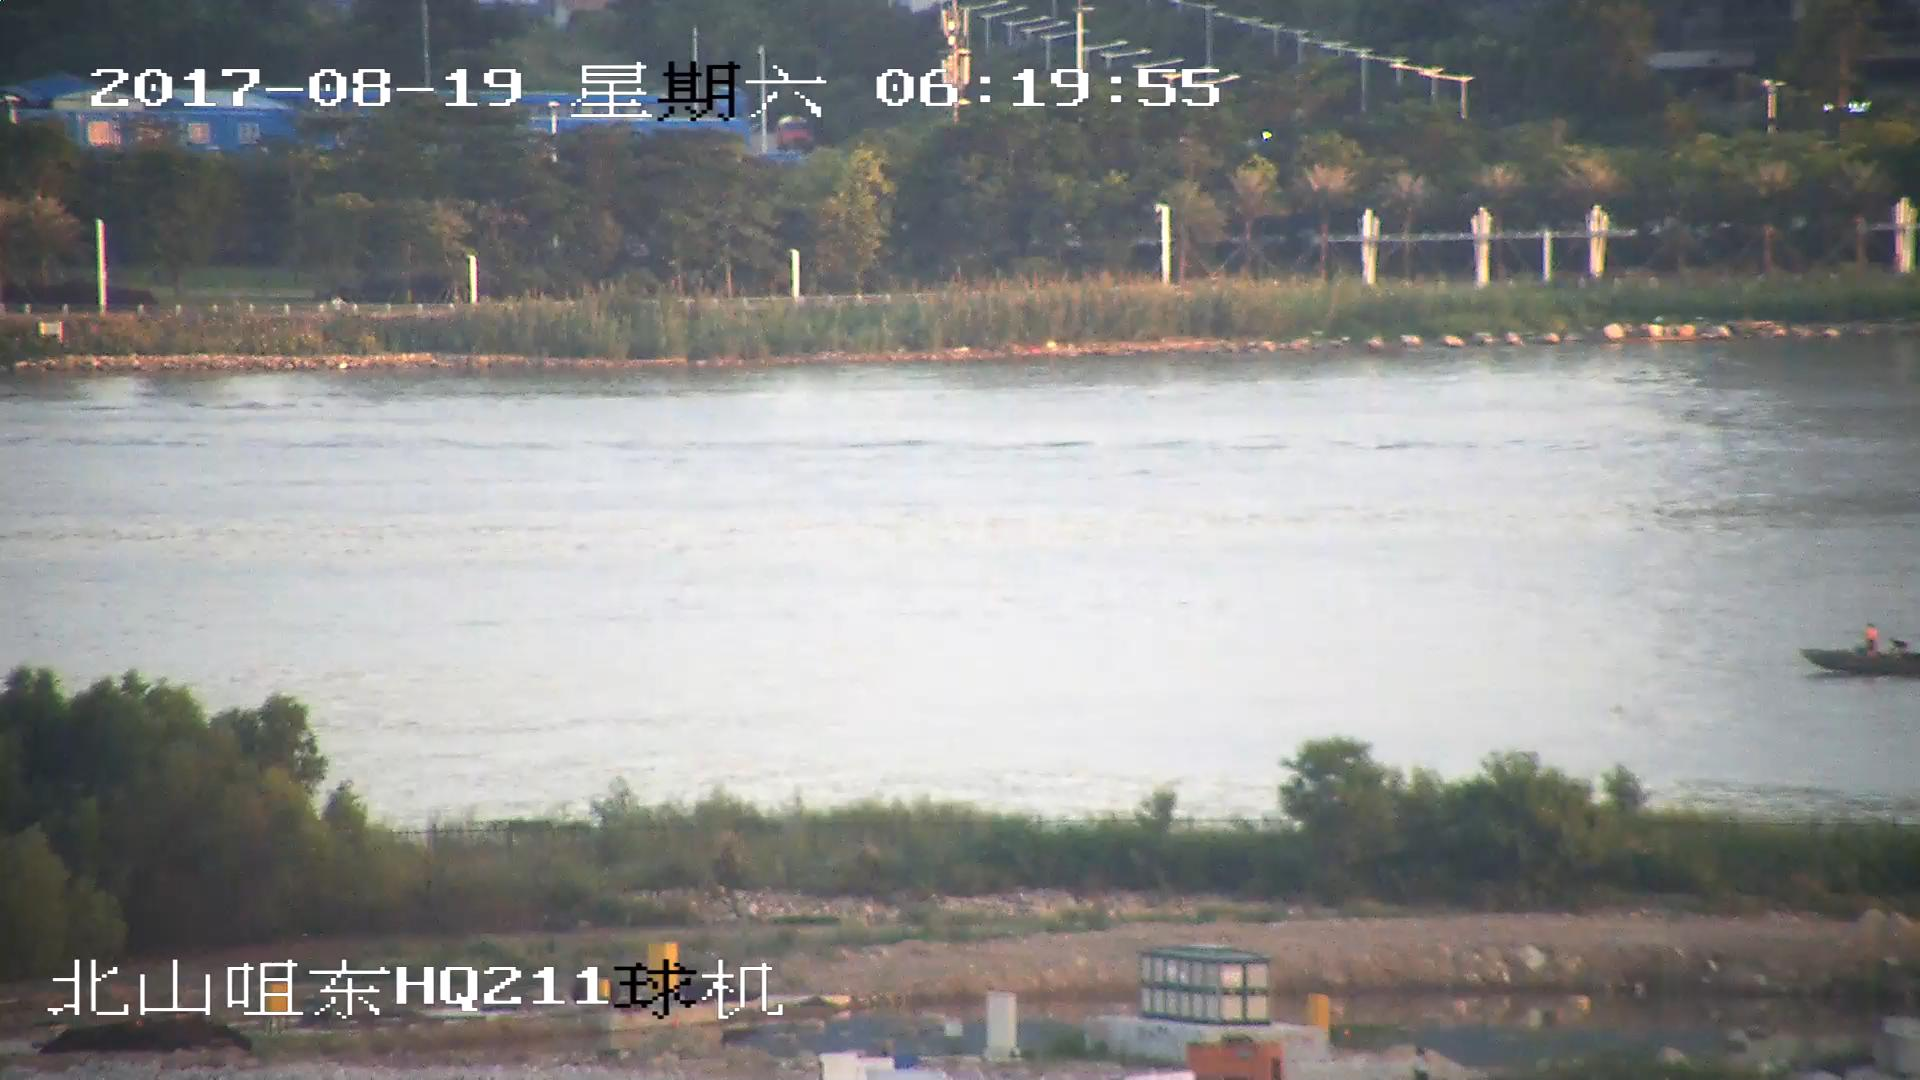fishing boat: (1804, 622, 1920, 677)
